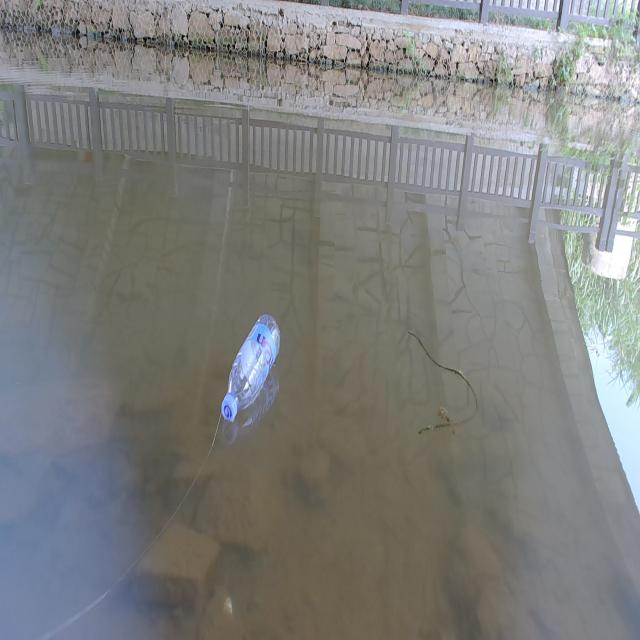Bottle: (220, 308, 280, 425)
